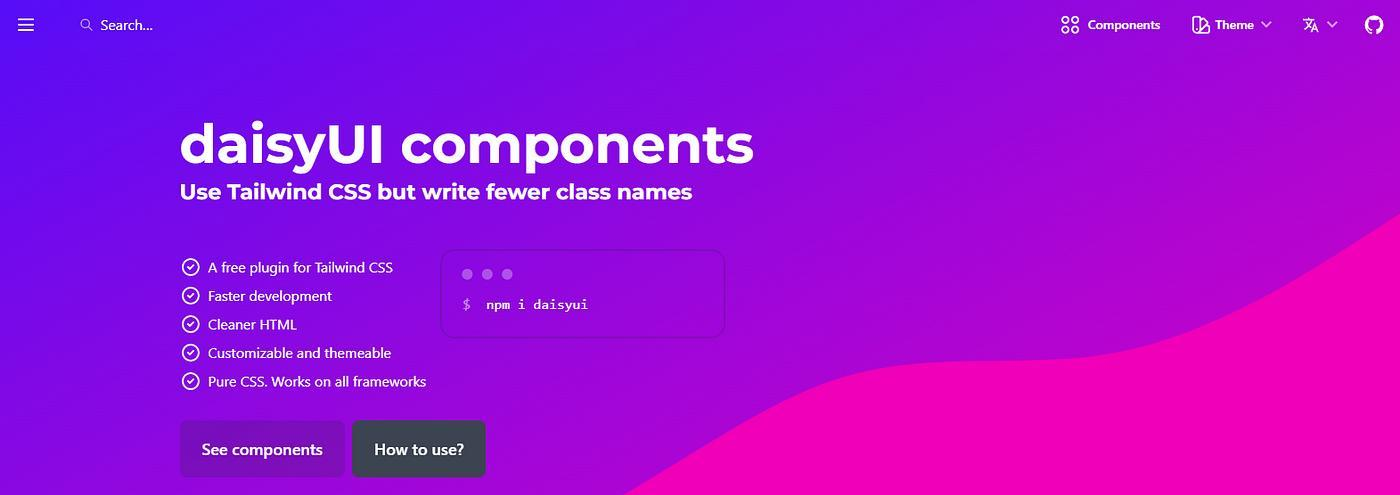button: (181, 418, 348, 482), (356, 423, 483, 479)
checkbox: (180, 285, 203, 307), (180, 258, 202, 278), (181, 315, 203, 335), (181, 343, 201, 364), (181, 372, 201, 391)
icon: (1361, 7, 1392, 46), (1189, 13, 1214, 39), (15, 15, 40, 38), (1058, 15, 1082, 38), (76, 16, 99, 39), (1298, 16, 1323, 37)
label: (211, 371, 435, 397), (205, 259, 399, 280), (207, 348, 396, 366), (210, 288, 338, 311), (207, 320, 304, 338), (1212, 16, 1277, 33)
